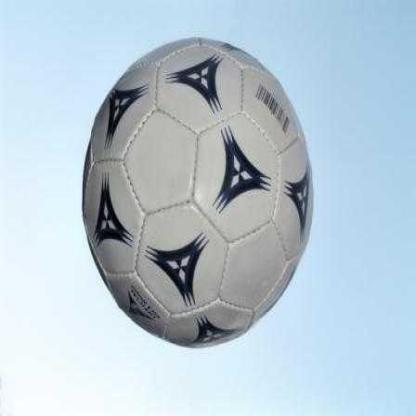ball: (83, 35, 316, 352)
